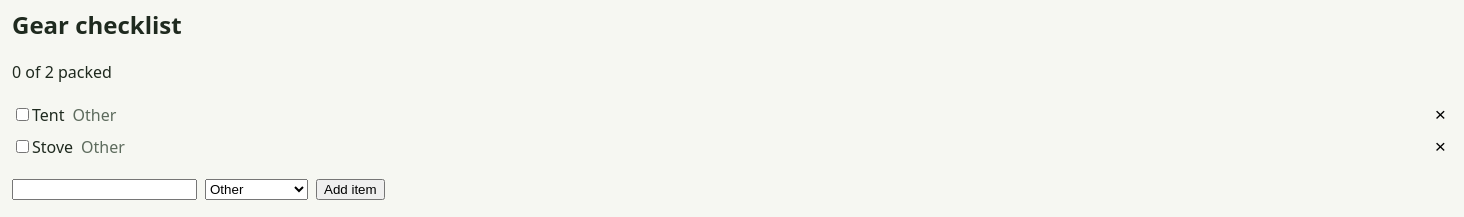
Test case: GearChecklist › removes an unpacked item
This screenshot has width=1464, height=217.
Step 1. Click the button named "Remove Stove" → [1440, 147], box top-left (1429, 135), bottom-right (1452, 159)
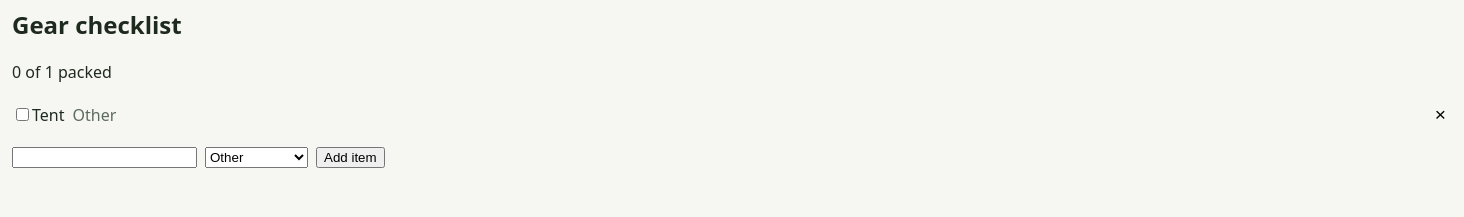
Result: the text "Stove" is gone
